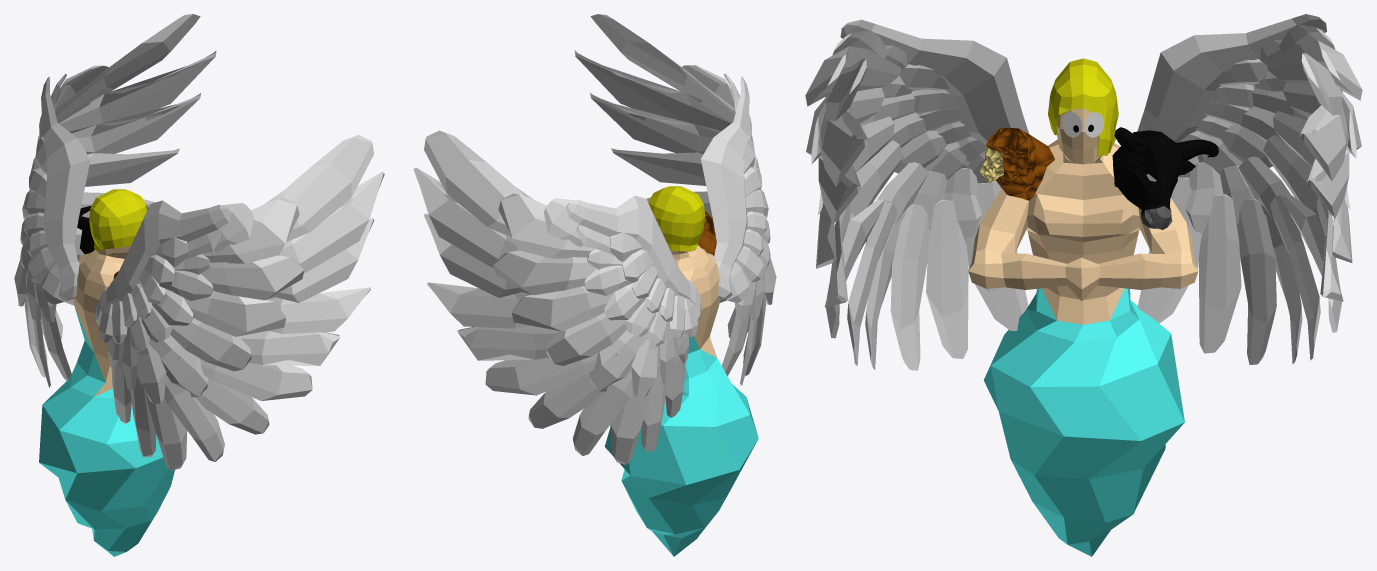
Rendered from Querubin.fbx.
The picture shows the model from 3 angles, left to right: view 1: azimuth 30°, elevation 25°; view 2: azimuth 150°, elevation 25°; view 3: azimuth 270°, elevation 25°; orthographic projection. The views are drawn at different scales.
Visible parts, largest first — view 1: Cylinder.118, Cylinder.119, Cone.001, Cone, CUERP BACKUP.011, Cube.012; view 2: Cylinder.119, Cylinder.118, Cone.001, CUERP BACKUP.011, Cone, uploads_files_2866017_lion_obj; view 3: Cylinder.118, Cylinder.119, Cone.001, Cone, Cube.012, CUERP BACKUP.011, uploads_files_2866017_lion_obj, Circle.004.
Part boxes in pixels (<box>): Cylinder.118: <box>95,135,384,470</box>; Cylinder.119: <box>14,14,216,387</box>; Cone.001: <box>39,310,174,556</box>; Cone: <box>73,246,130,396</box>; CUERP BACKUP.011: <box>89,189,147,252</box>; Cube.012: <box>77,206,94,254</box>; Cylinder.119: <box>413,130,700,464</box>; Cylinder.118: <box>574,14,776,386</box>; Cone.001: <box>604,336,758,556</box>; CUERP BACKUP.011: <box>648,186,705,251</box>; Cone: <box>671,243,720,357</box>; uploads_files_2866017_lion_obj: <box>698,211,716,255</box>; Cylinder.118: <box>805,19,1028,370</box>; Cylinder.119: <box>1137,14,1362,364</box>; Cone.001: <box>983,288,1184,556</box>; Cone: <box>968,108,1198,324</box>; Cube.012: <box>1112,127,1218,229</box>; CUERP BACKUP.011: <box>1048,58,1118,157</box>; uploads_files_2866017_lion_obj: <box>980,128,1054,200</box>; Circle.004: <box>1062,112,1104,137</box>.
Size of the model in its own units: 415 by 694 by 585.
